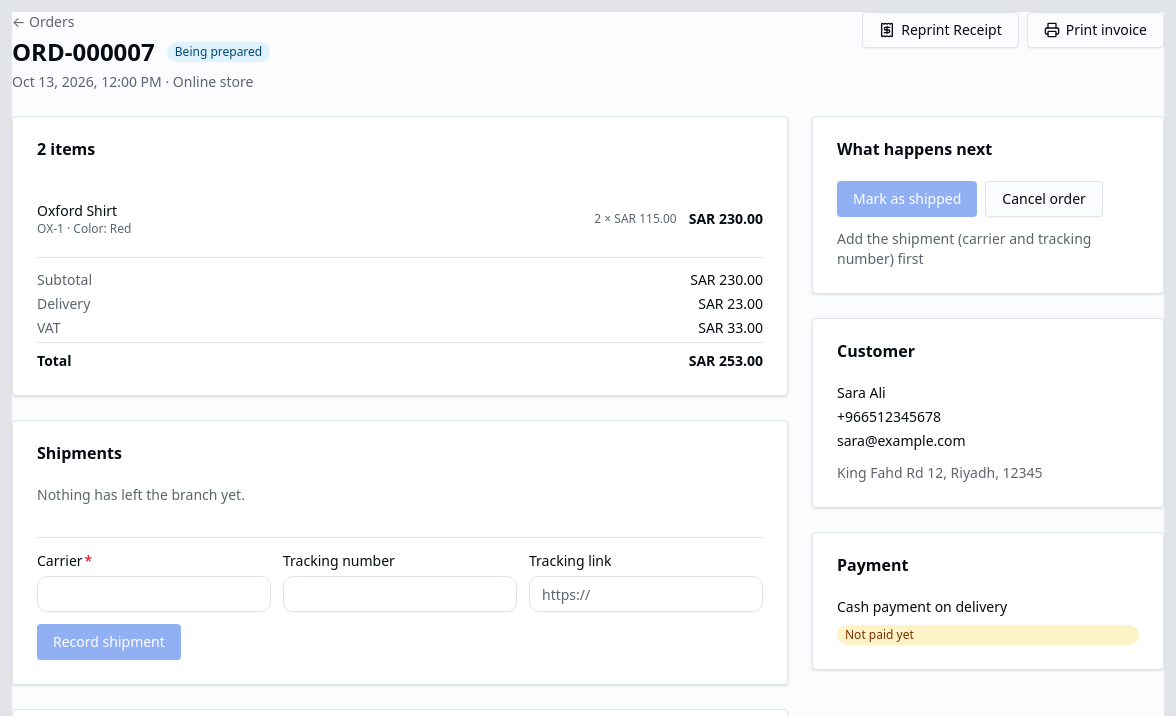
Scenario: one order › records a shipment, which is what ships the order
Expected: the heading "ORD-000007 Being prepared" is shown, 12,36 -> 270,68
Type "Aramex" into the field labelled "Carrier*". click: (154, 594)
box: 37,576 -> 271,612
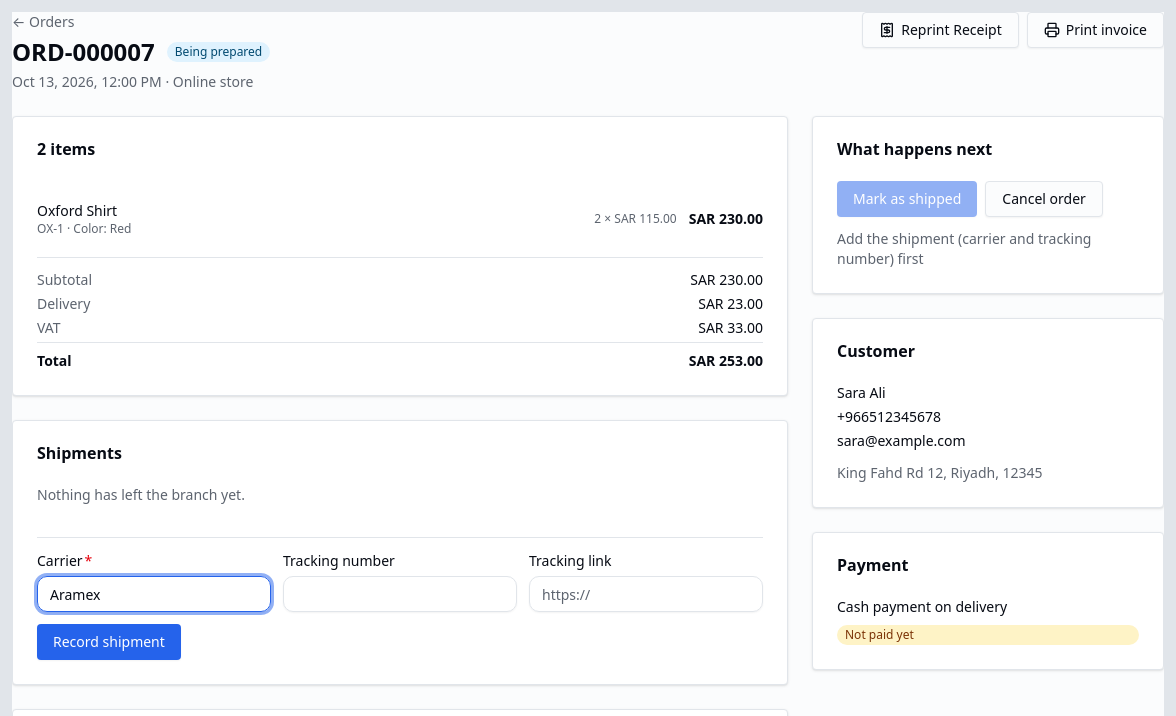
Type "ARX-1" into the field labelled "Tracking number". click: (400, 594)
box: 283,576 -> 517,612
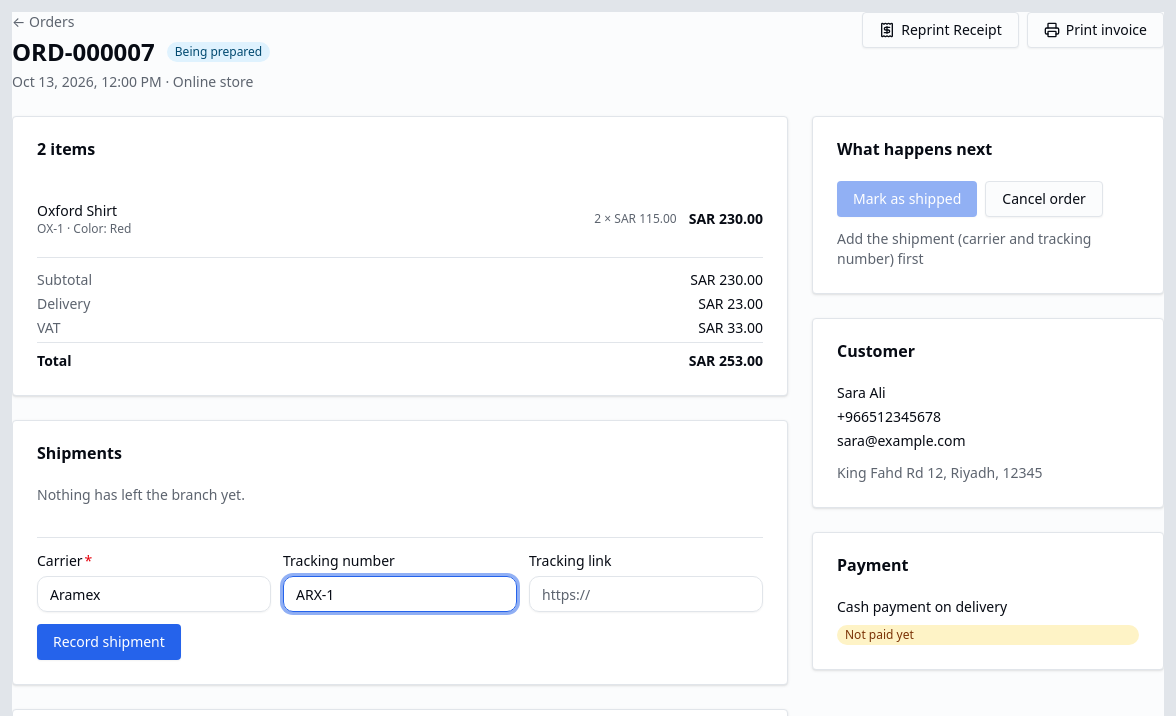
Click the button "Record shipment". click: (109, 642)
box: 37,624 -> 181,660
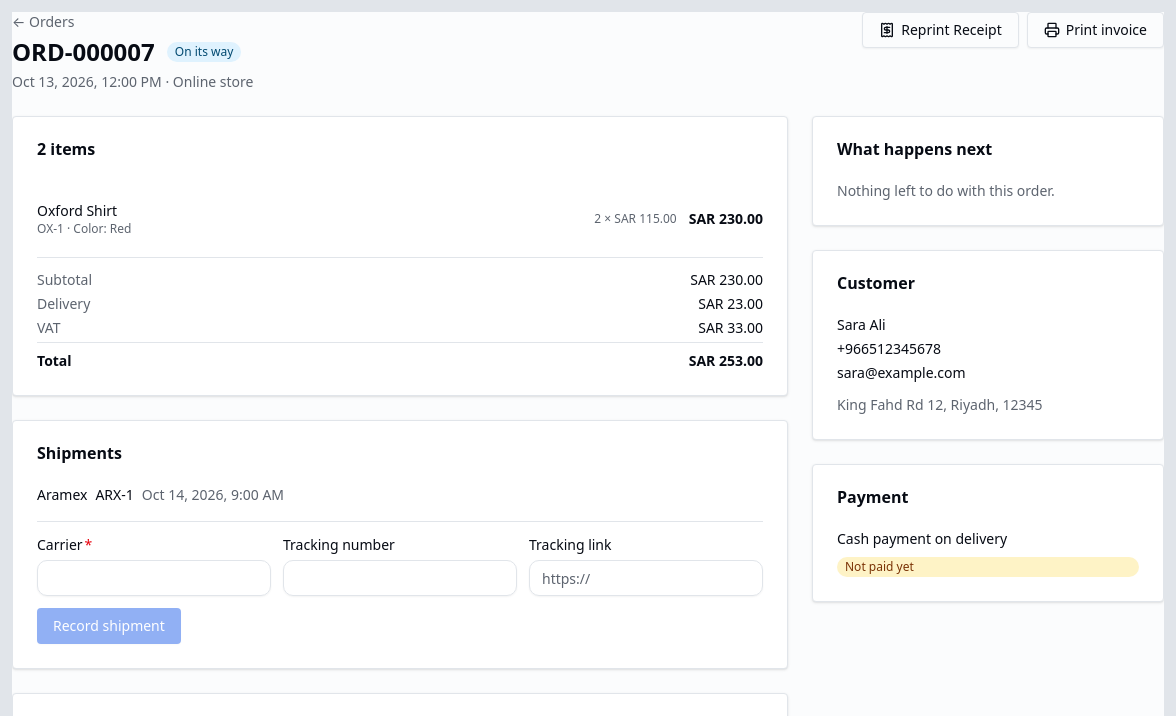
Now the text "On its way" is shown, box 167,42 -> 241,62
